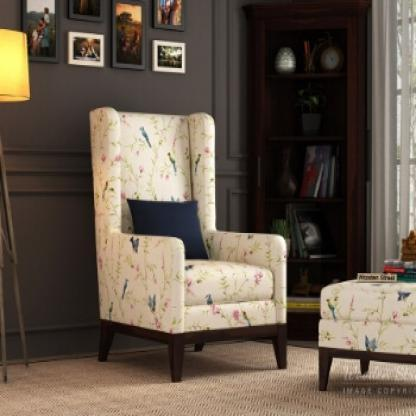chair: (74, 99, 295, 383)
clock: (310, 28, 344, 75)
light: (0, 18, 43, 389)
table: (312, 264, 416, 392)
